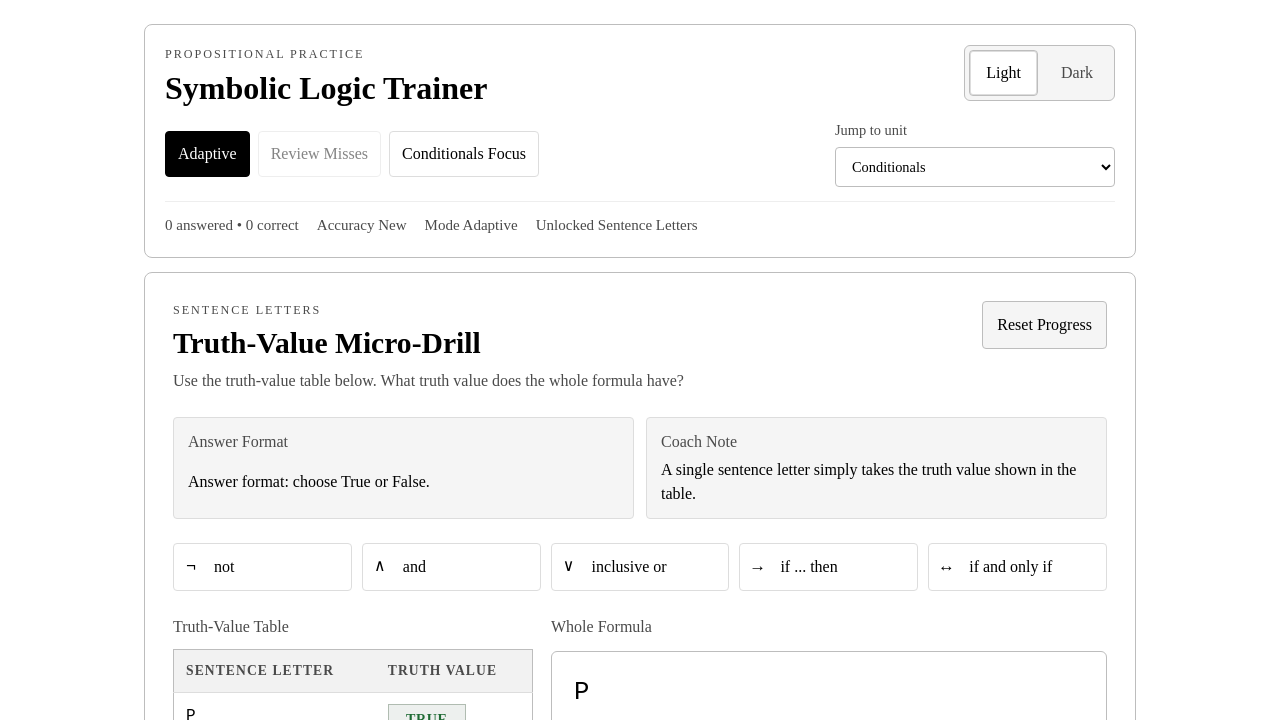
Test case: trainer app › starts a focused conditionals module
Step 1. Click the button "Conditionals Focus" → (464, 154), box [389,131,539,177]
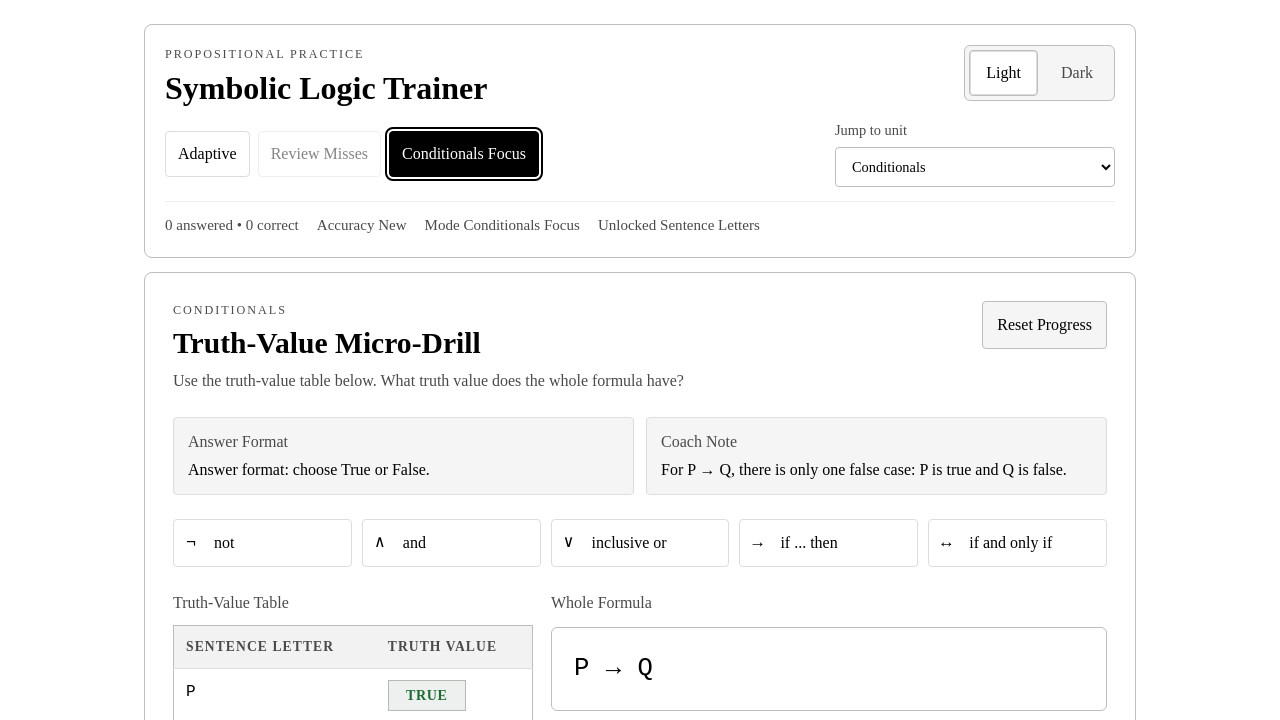
expect the text "Mode Conditionals Focus" is shown: met, box [424,214,580,237]
expect the text "P → Q" is shown: met, box [551,627,1107,711]
expect the text "only one false case" is shown: met, box [661,461,1067,478]
